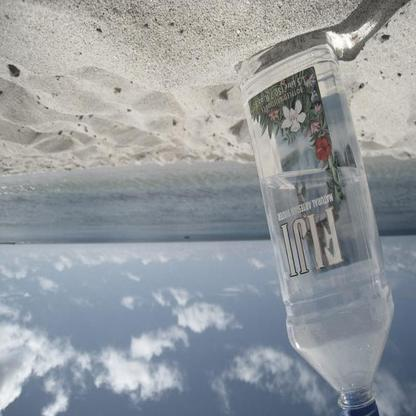plastic bottle: (247, 42, 395, 416)
